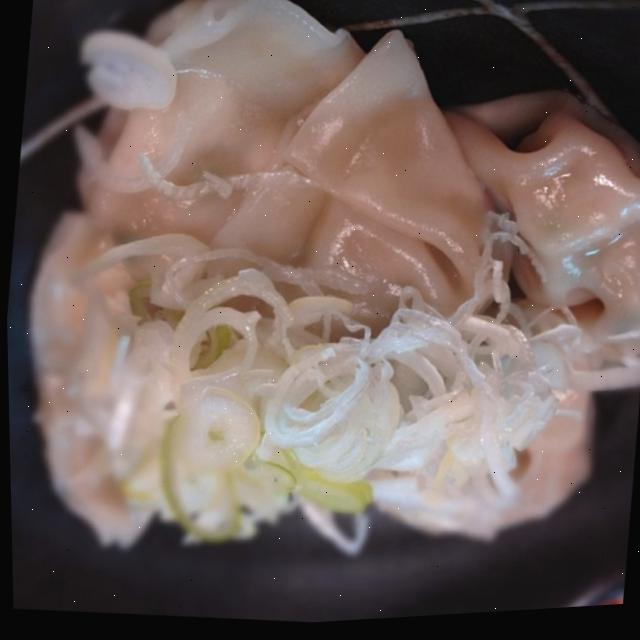带馅早点: (0, 0, 640, 632)
